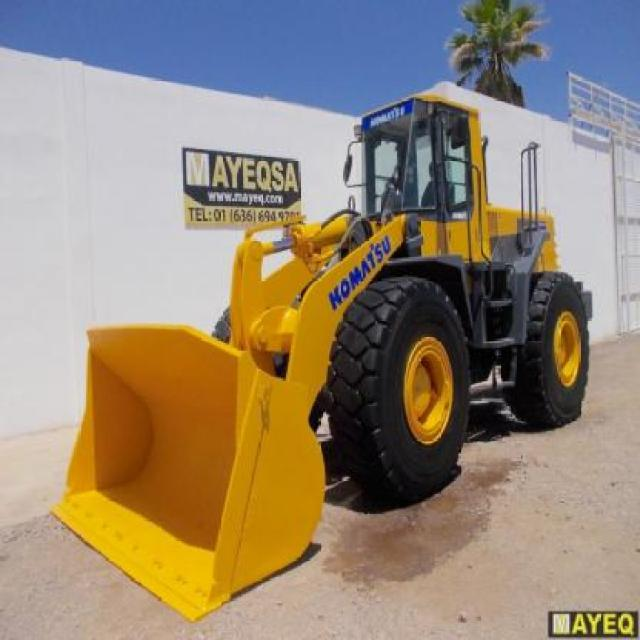buldozerpayloadergrader: (41, 85, 592, 602)
